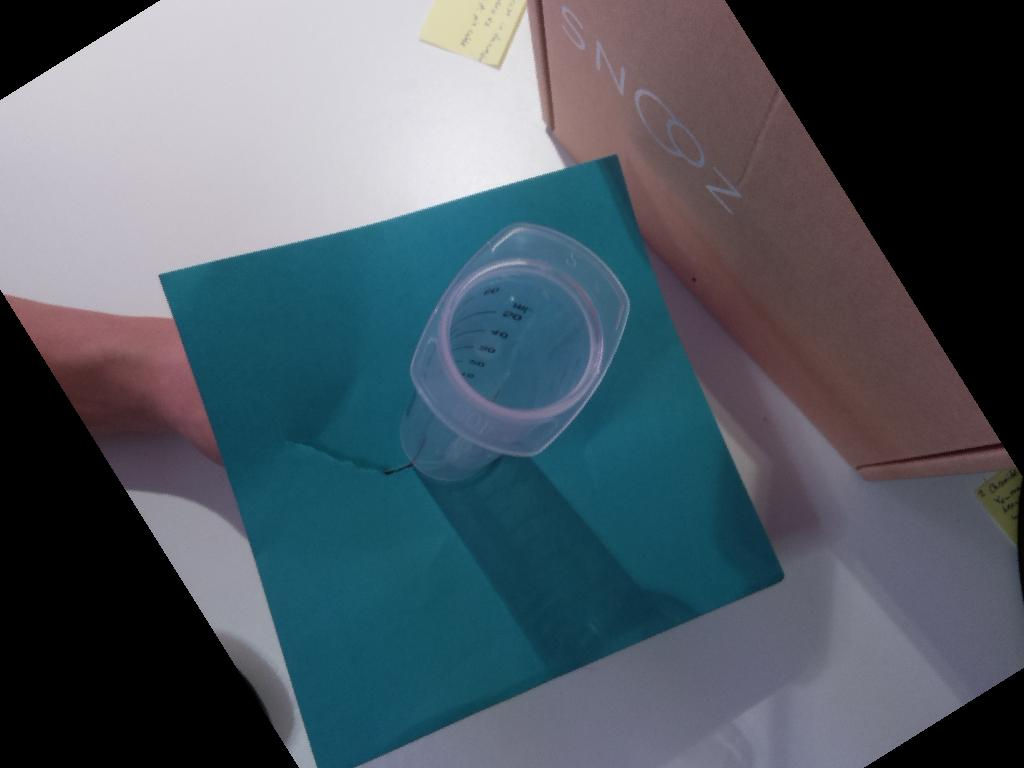clean: (411, 221, 631, 460)
